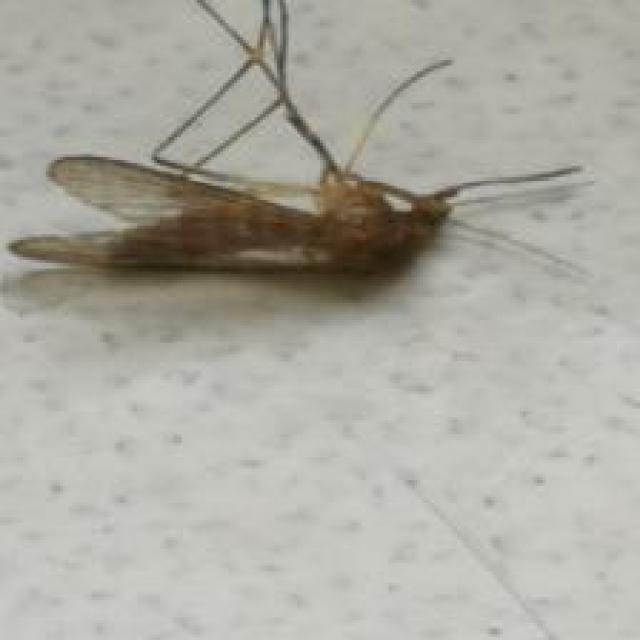Culex: (6, 0, 594, 286)
